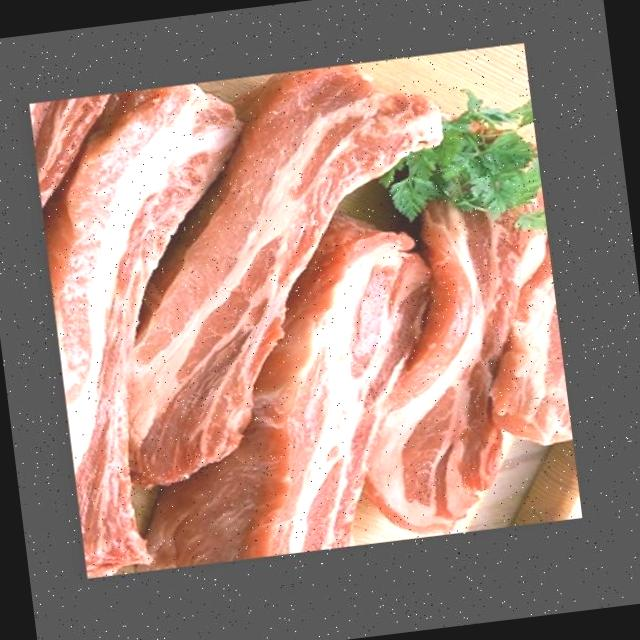pork: (128, 67, 442, 487), (42, 84, 241, 576), (139, 231, 420, 572), (366, 166, 527, 530), (486, 243, 570, 445)
